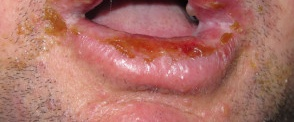SJS-TEN: (18, 4, 249, 74)
